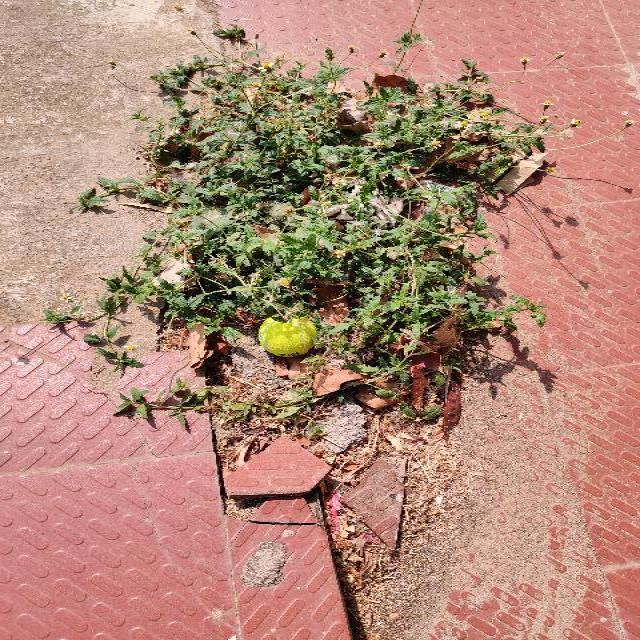tennis-ball: (258, 324, 312, 357)
